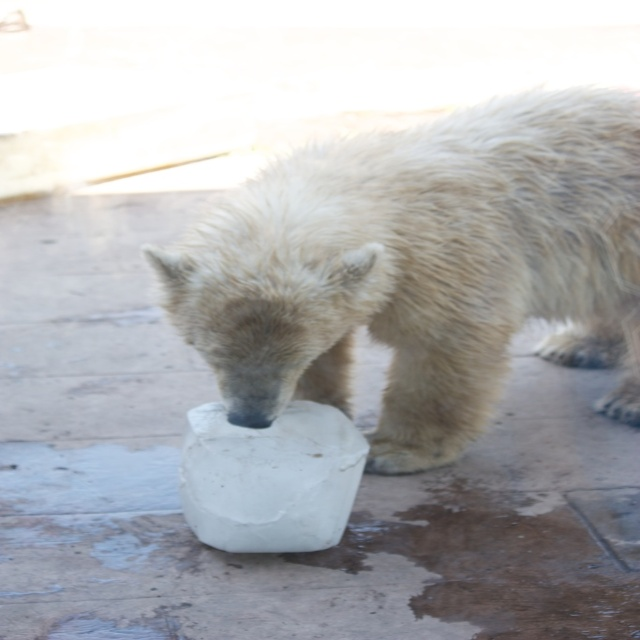Polar bear: (138, 84, 639, 474)
